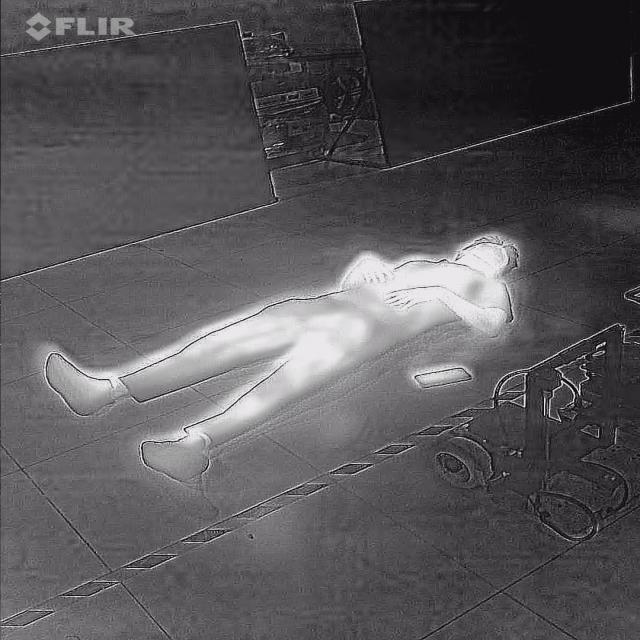Victim: (41, 230, 524, 479)
